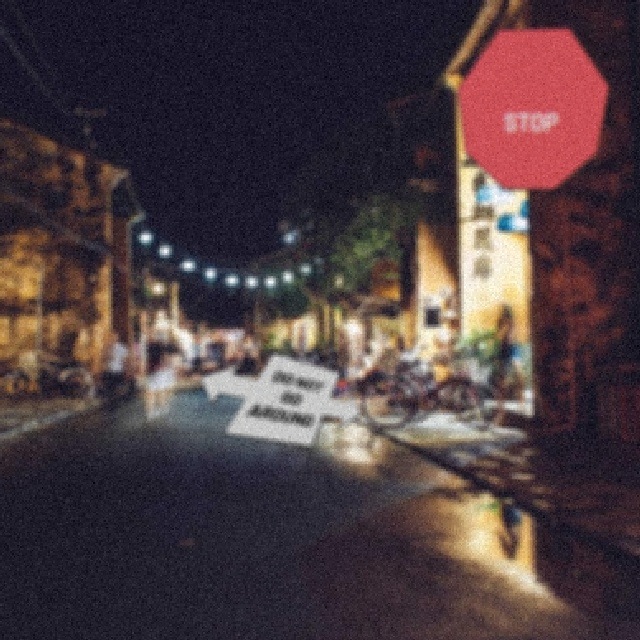DO_NOT_GO_AROUND: (197, 351, 361, 446)
STOP: (455, 25, 609, 189)
